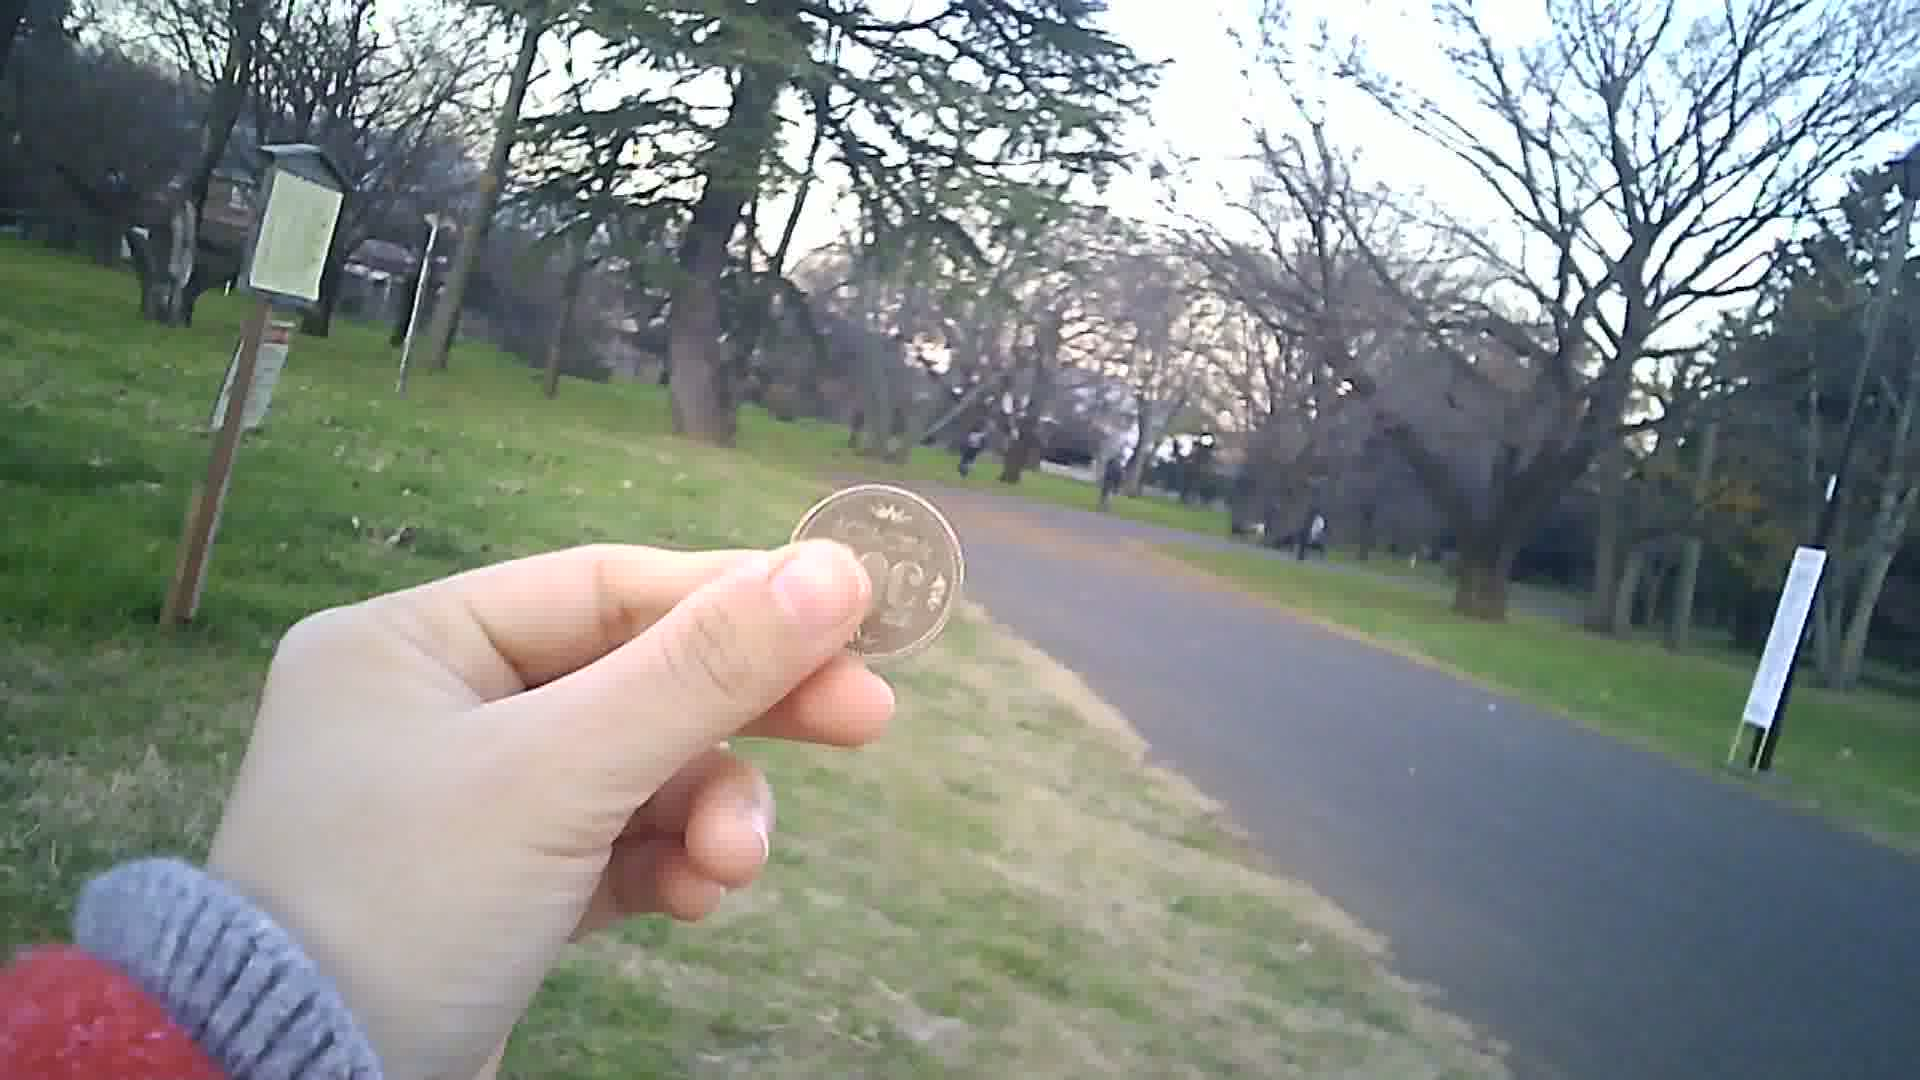500 Yen: (773, 469, 973, 670)
